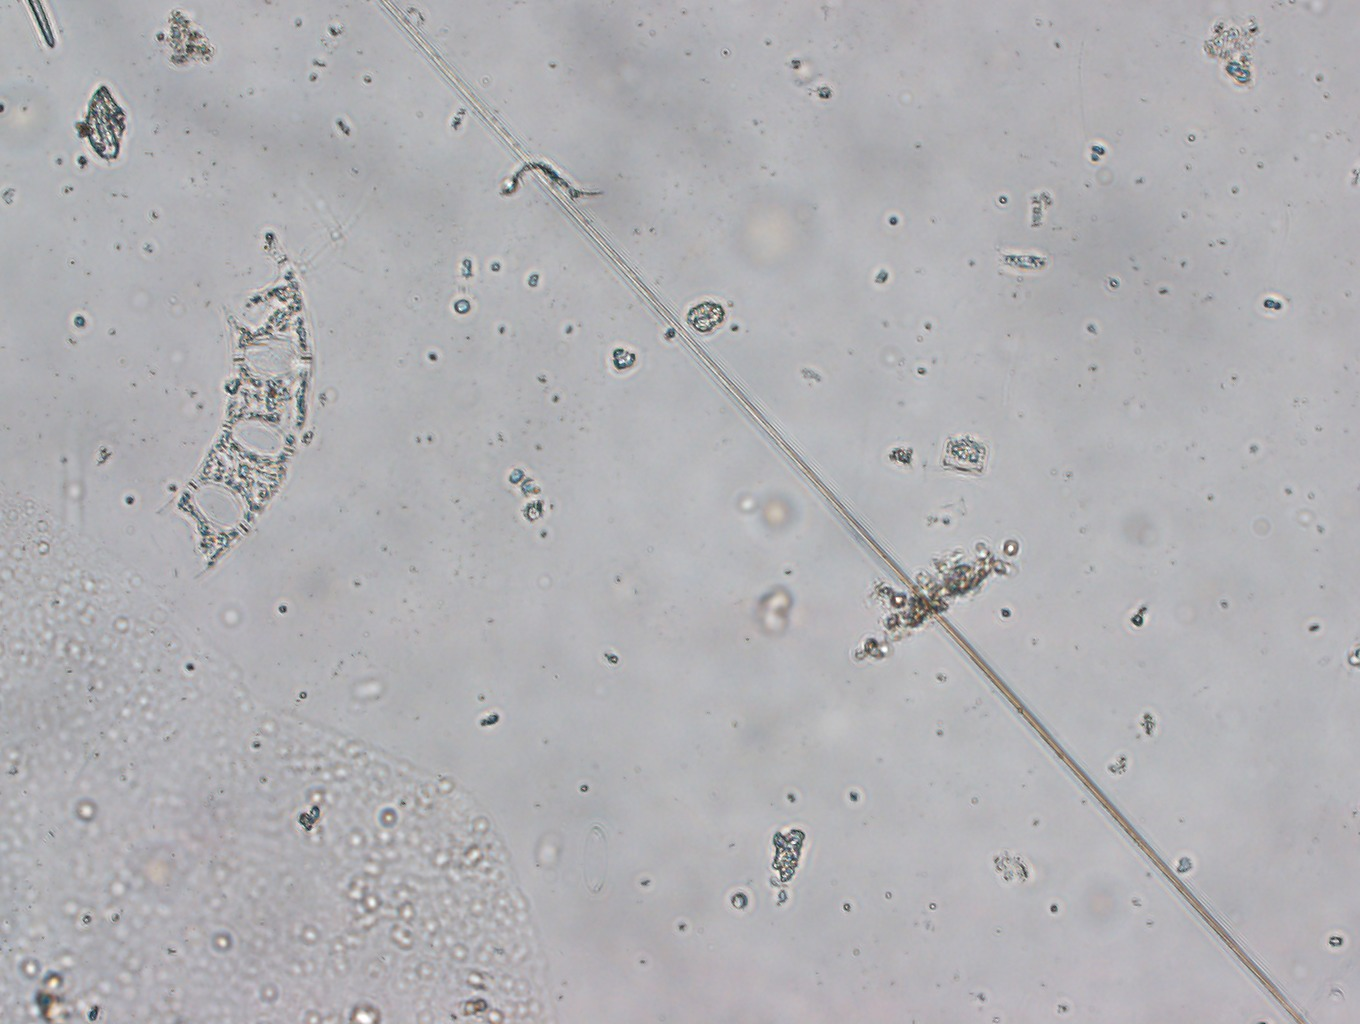eucampia: (137, 231, 320, 579)
